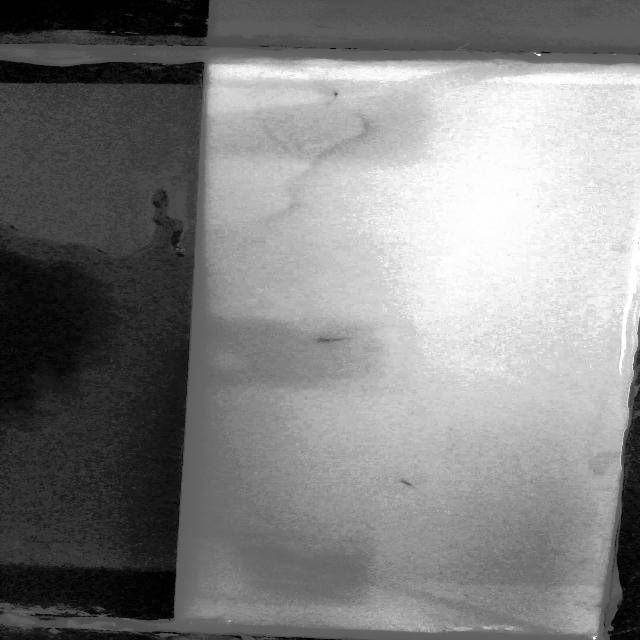shrimp: (310, 336, 355, 344), (394, 477, 416, 489), (323, 90, 352, 98)
